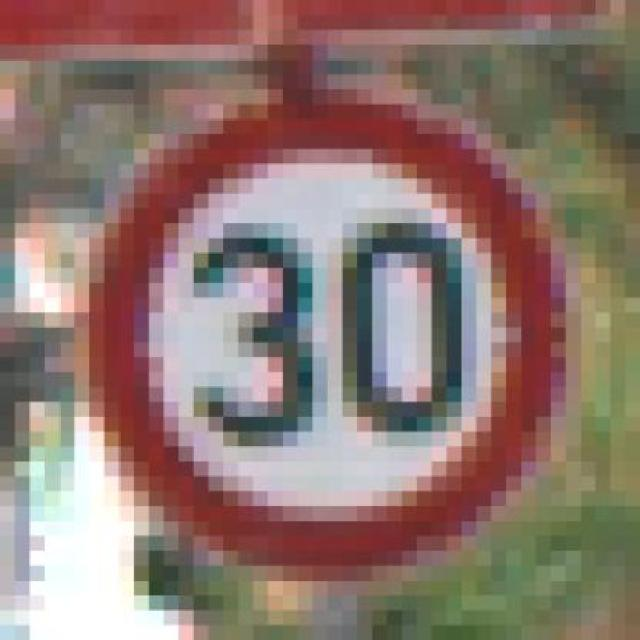Speed Limit 30 KMPh: (59, 74, 626, 611)
